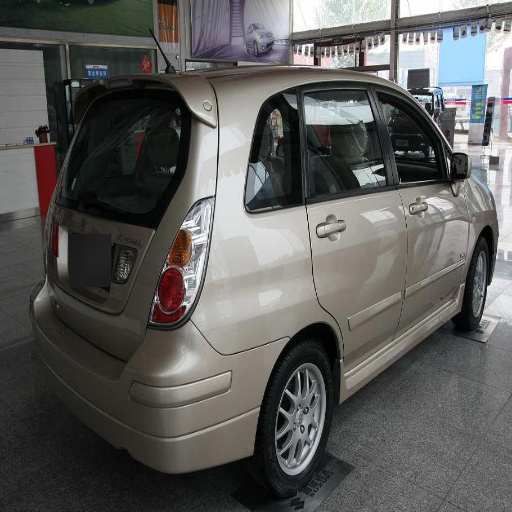back_bumper: (43, 290, 281, 473)
back_right_door: (247, 81, 407, 373)
tailgate: (77, 264, 153, 354)
trunk: (55, 211, 173, 355)
